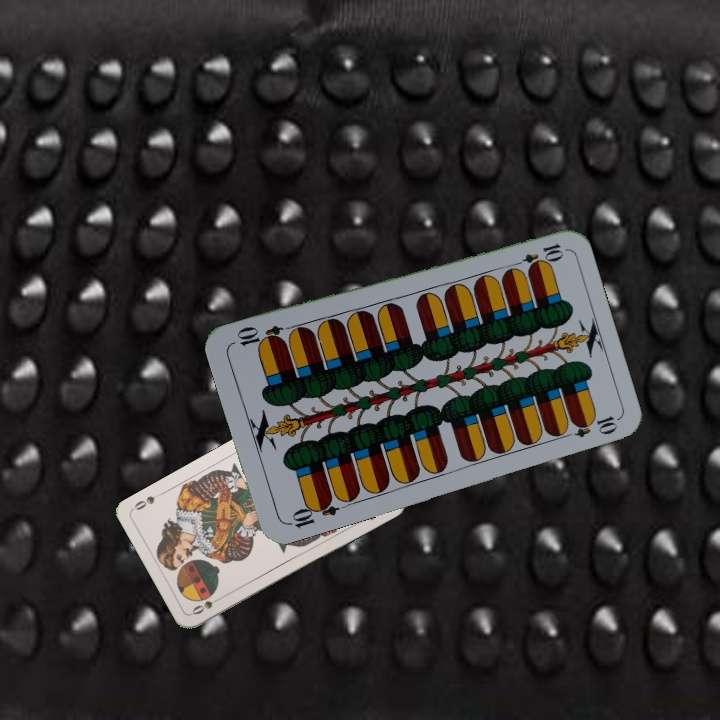E10: (283, 493, 341, 531), (507, 239, 566, 271)
SO: (188, 592, 226, 617)
